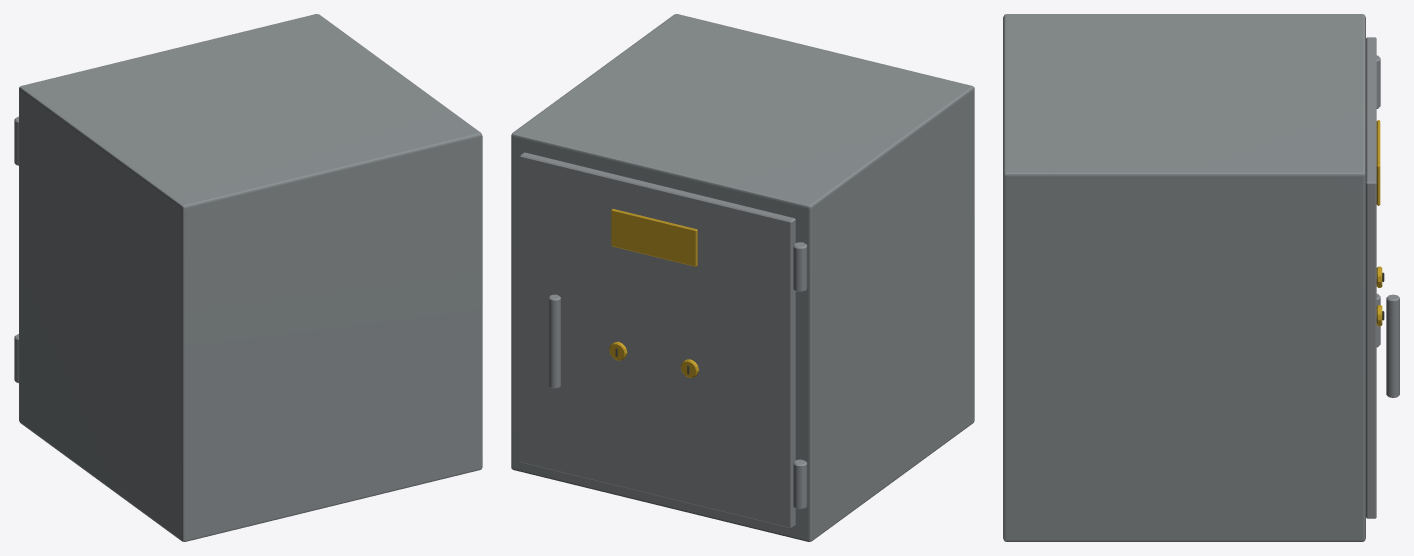
Rendered from prop_deposit_box_consign.glb.
3 renders of one model, left to right at view 1: azimuth 30°, elevation 25°; view 2: azimuth 150°, elevation 25°; view 3: azimuth 270°, elevation 25°, orthographic. The views are drawn at different scales.
Parts seen in each view (by area): view 1: Body; view 2: Body; view 3: Body.
Part boxes in pixels (x1=…): Body: x1=14, y1=14, x2=482, y2=541; Body: x1=511, y1=14, x2=974, y2=541; Body: x1=1003, y1=14, x2=1399, y2=541.
Bounding box in the file's own units: 0.42 × 0.45 × 0.4374.
